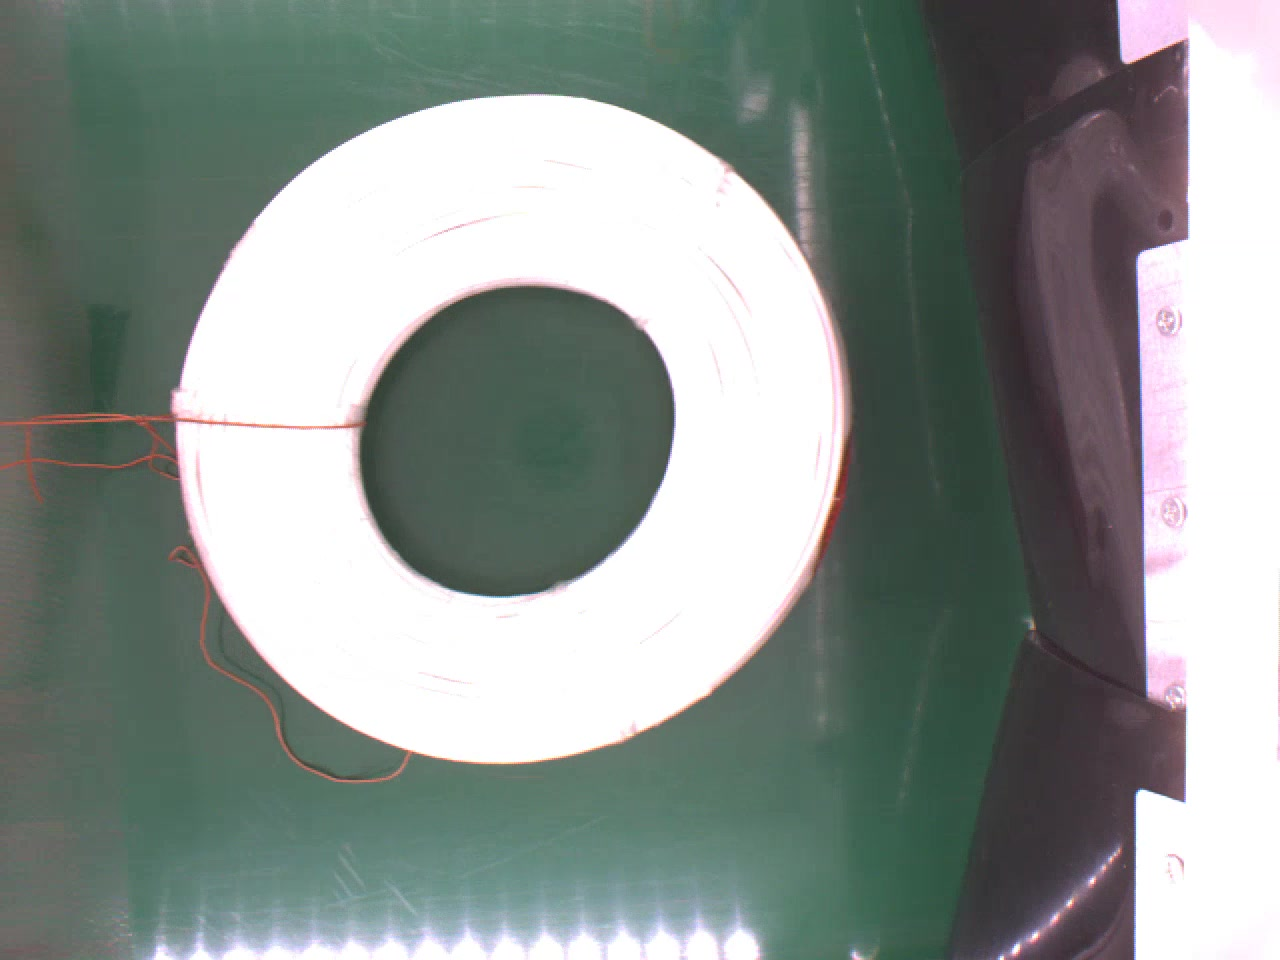white: (175, 88, 857, 761)
